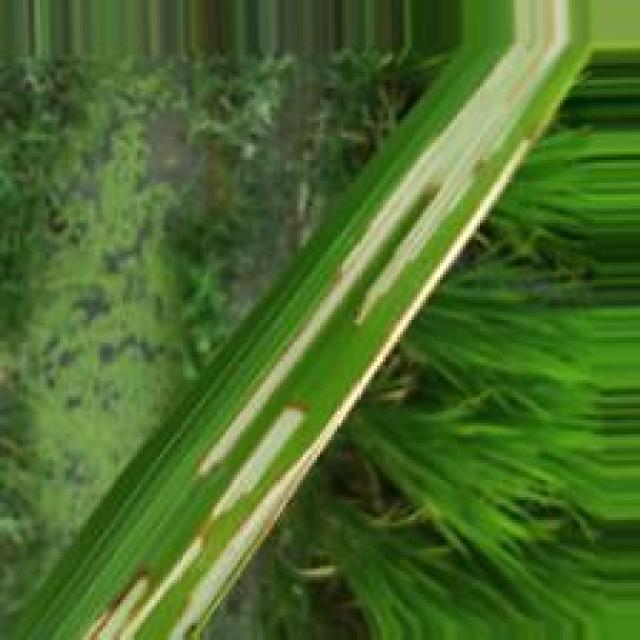Rice_Hispa: (170, 135, 536, 640), (193, 0, 576, 472), (194, 397, 310, 530), (80, 531, 210, 640)
